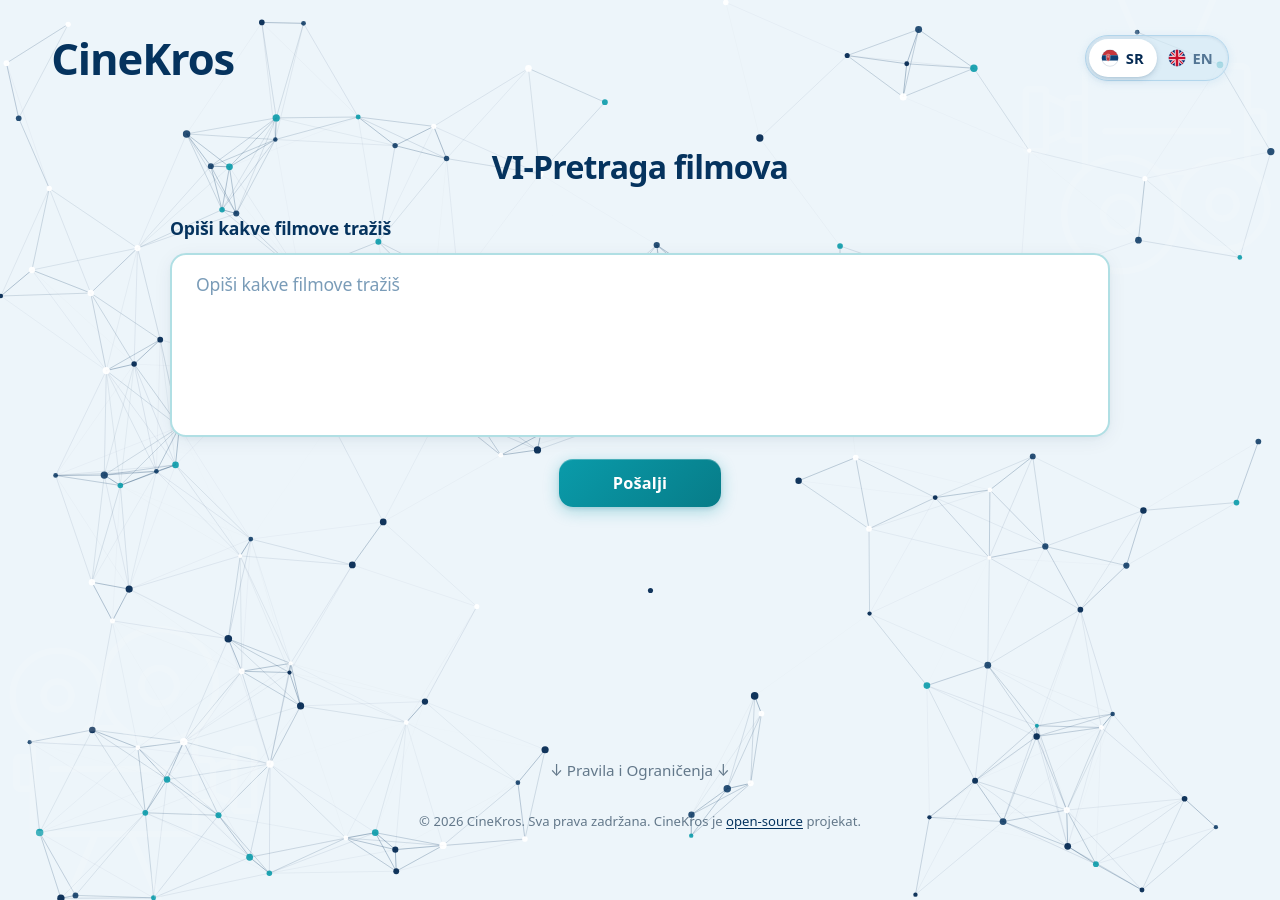
Test case: v2 recommendation frontend › keeps the business alert modal-contained, handles Escape, and restores prompt focus
In the text box: (640, 345) left=170, top=253, right=1110, bottom=437, type "film"
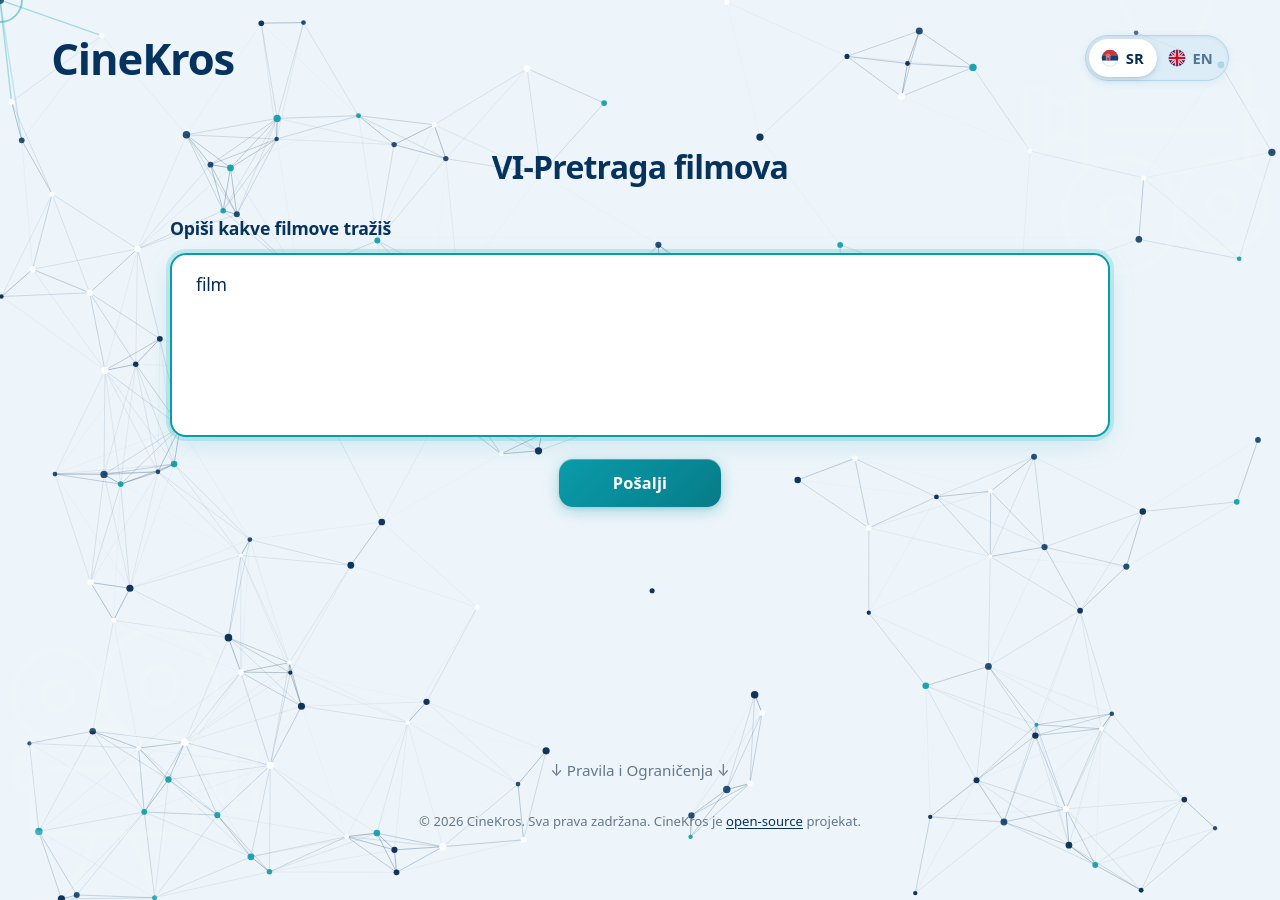
Click the button "Pošalji": (640, 483) left=559, top=459, right=721, bottom=507
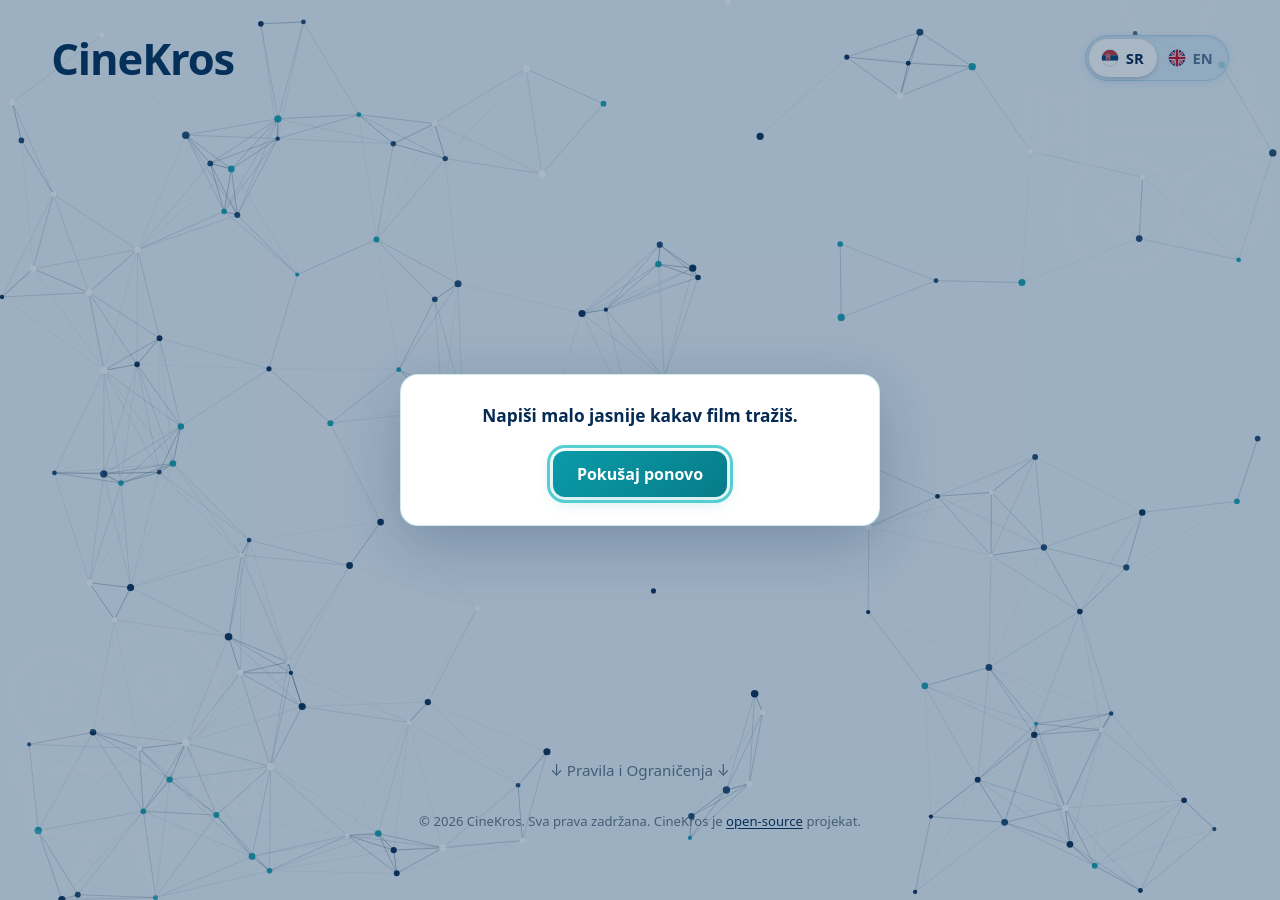
Result: the element that starts with "CineKros" has attribute inert
Press Tab
Press Escape
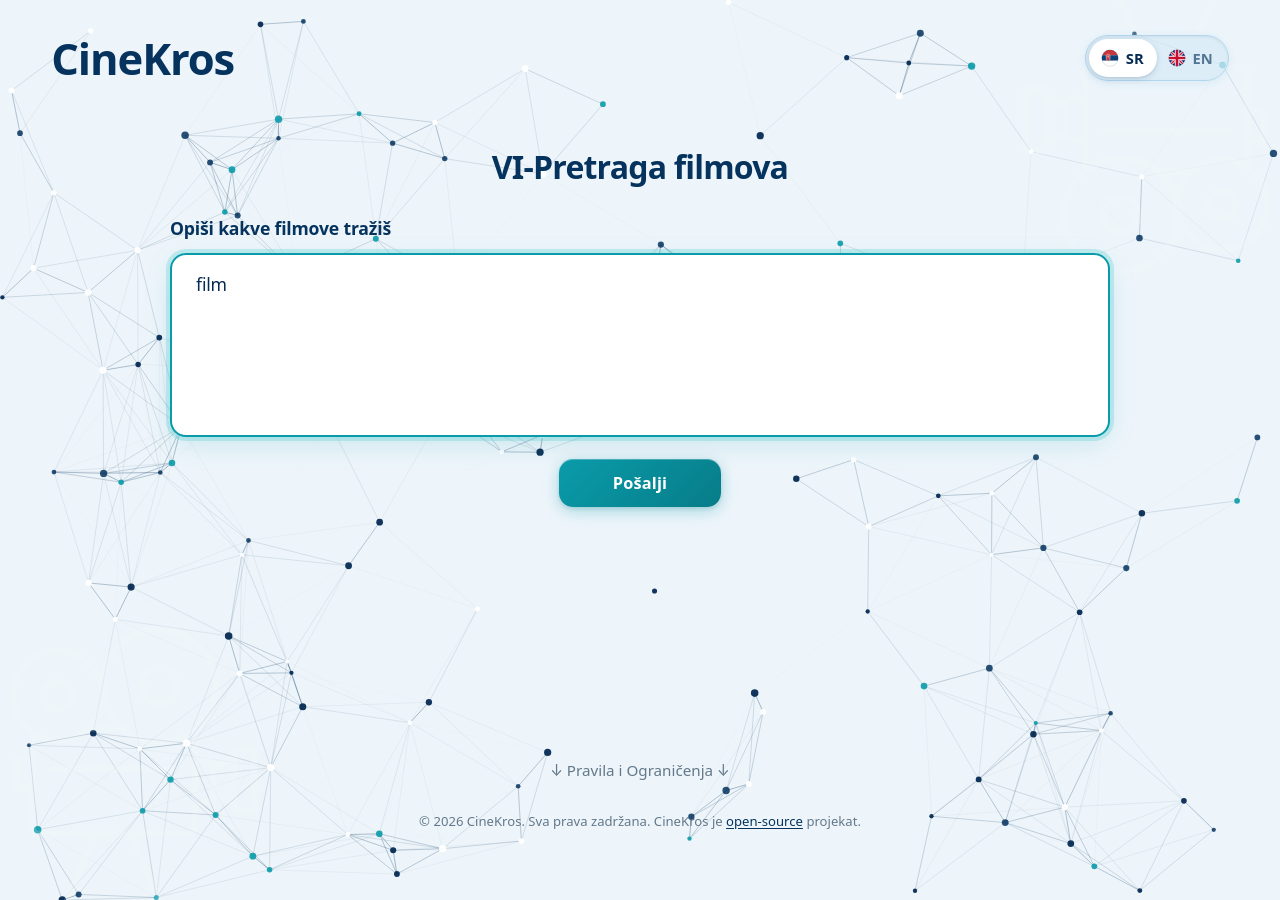
Result: the dialog is gone
